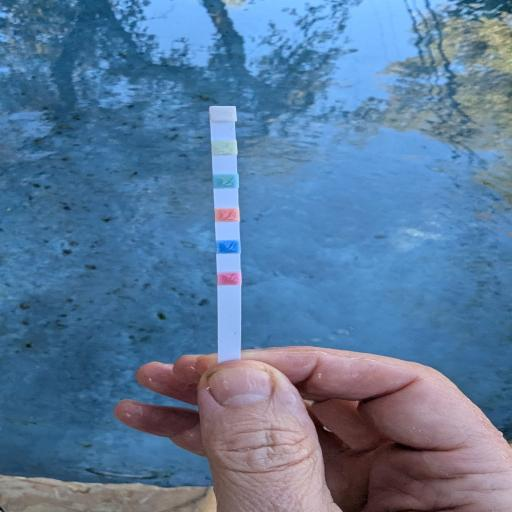strip: (207, 106, 243, 363)
